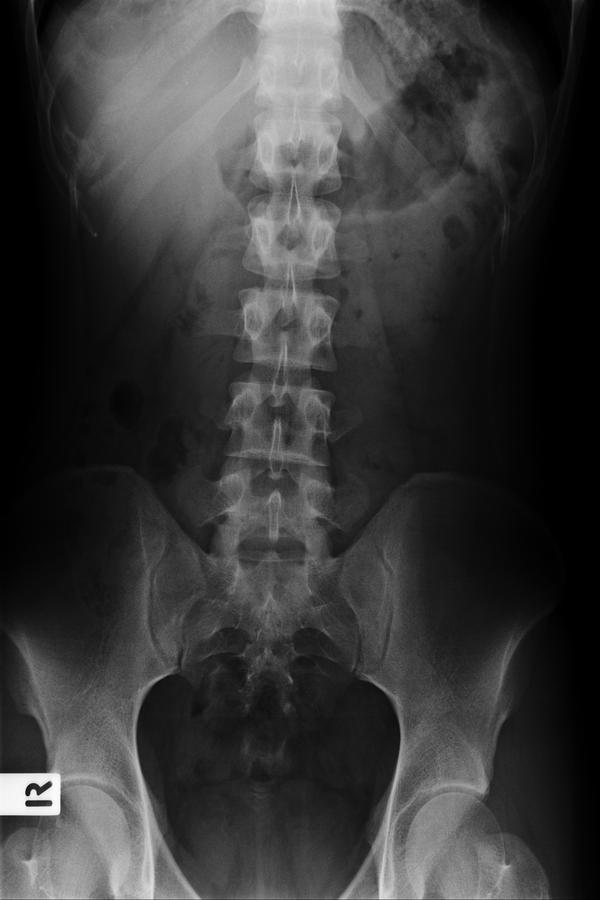lumbar scoliosis: (204, 220, 349, 625)
